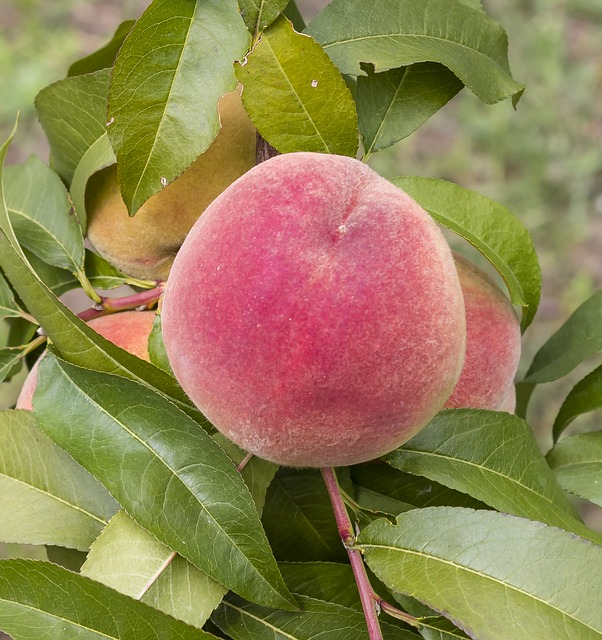peach: (163, 148, 469, 465)
